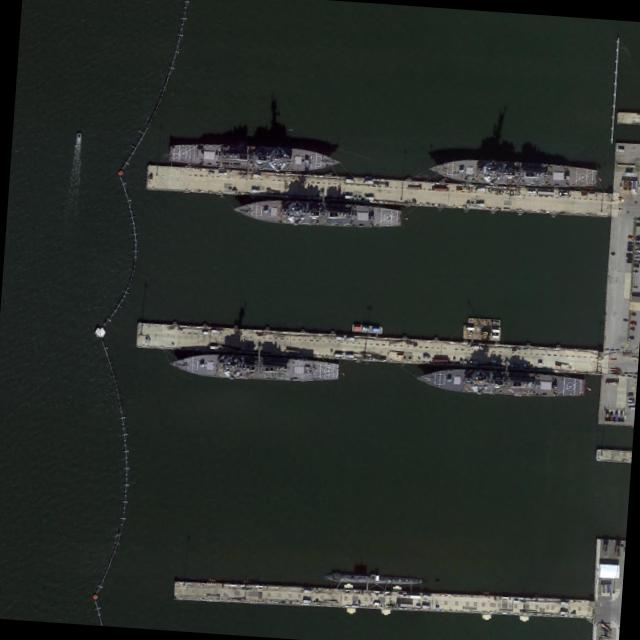ship: (428, 155, 596, 191), (169, 351, 338, 386), (417, 366, 585, 401), (169, 140, 341, 174), (233, 198, 402, 231), (324, 572, 422, 585), (462, 319, 502, 341), (352, 323, 382, 332)
small-vehicle: (627, 235, 634, 239), (626, 259, 632, 263), (630, 322, 636, 326), (628, 403, 635, 406), (635, 223, 640, 227), (634, 258, 640, 261), (632, 271, 638, 274), (628, 399, 634, 402), (629, 407, 635, 410), (627, 244, 633, 247), (622, 320, 628, 323), (636, 217, 640, 221), (631, 313, 635, 317), (629, 337, 634, 340), (635, 249, 640, 252), (635, 254, 640, 257), (636, 240, 640, 243), (628, 241, 632, 244), (628, 247, 632, 250), (632, 287, 637, 289), (626, 254, 631, 256), (630, 329, 634, 331)
